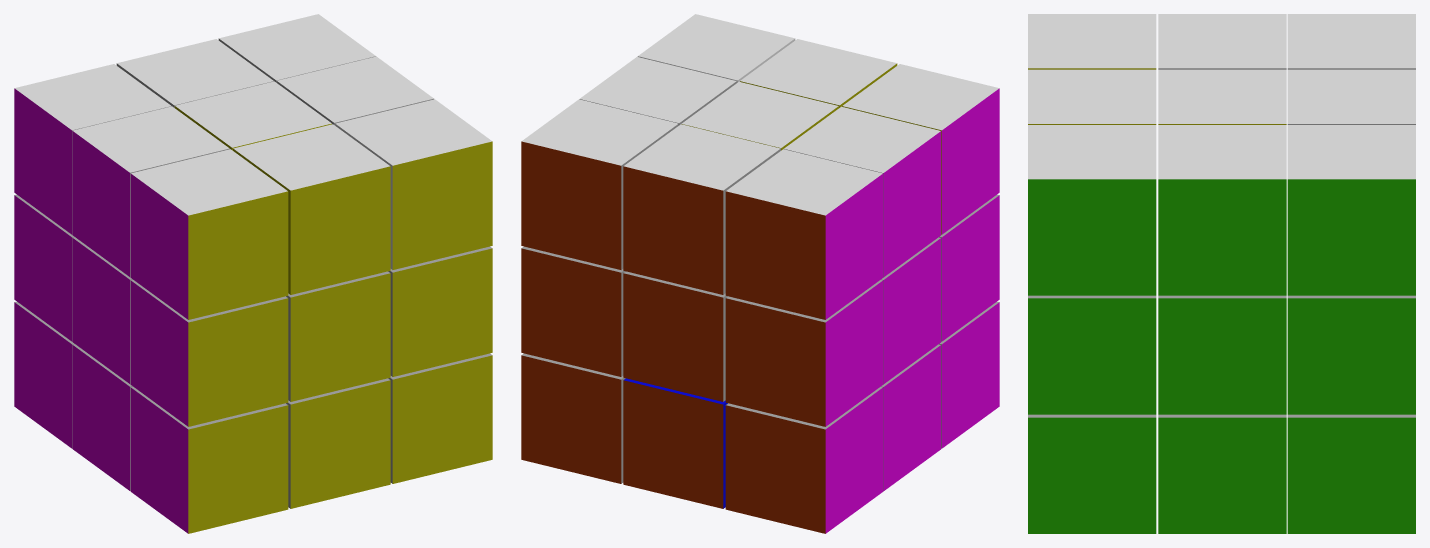
File: Rubik Cube.fbx
The picture shows the model from 3 angles, left to right: view 1: azimuth 30°, elevation 25°; view 2: azimuth 150°, elevation 25°; view 3: azimuth 270°, elevation 25°; orthographic projection. The views are drawn at different scales.
Parts seen in each view (by area): view 1: pCube324, pCube341, pCube332, pCube325, pCube328, pCube323, pCube322, pCube345, pCube340, pCube331, pCube336, pCube347 (+7 smaller); view 2: pCube322, pCube348, pCube339, pCube327, pCube330, pCube324, pCube323, pCube343, pCube346, pCube337, pCube334, pCube341 (+7 smaller); view 3: pCube328, pCube329, pCube330, pCube335, pCube344, pCube334, pCube336, pCube343, pCube345, pCube322, pCube323, pCube324 (+3 smaller).
Boxes of the visible parts, box(x1,y1,x2,y2) form: pCube324: box(130, 149, 288, 319); pCube341: box(130, 386, 288, 533); pCube332: box(130, 280, 288, 426); pCube325: box(233, 124, 390, 294); pCube328: box(335, 99, 492, 269); pCube323: box(72, 106, 229, 276); pCube322: box(14, 64, 171, 234); pCube345: box(388, 353, 492, 483); pCube340: box(286, 378, 390, 508); pCube331: box(286, 271, 390, 401); pCube336: box(388, 246, 492, 376); pCube347: box(72, 344, 132, 490); pCube322: box(725, 149, 883, 319); pCube348: box(725, 386, 883, 533); pCube339: box(725, 280, 883, 426); pCube327: box(623, 124, 780, 294); pCube330: box(521, 99, 678, 269); pCube324: box(842, 64, 999, 234); pCube323: box(784, 106, 941, 277); pCube343: box(521, 353, 625, 483); pCube346: box(623, 378, 727, 508); pCube337: box(623, 271, 727, 401); pCube334: box(521, 246, 625, 376); pCube341: box(939, 301, 999, 448); pCube328: box(1028, 125, 1156, 295); pCube329: box(1158, 125, 1286, 295); pCube330: box(1287, 125, 1415, 295); pCube335: box(1158, 295, 1286, 414); pCube344: box(1158, 414, 1286, 533); pCube334: box(1287, 295, 1415, 414); pCube336: box(1028, 295, 1156, 414); pCube343: box(1287, 414, 1415, 533); pCube345: box(1028, 414, 1156, 533); pCube322: box(1287, 14, 1415, 69); pCube323: box(1158, 14, 1286, 69); pCube324: box(1028, 14, 1156, 69).
Size of the model in its own units: 3.05 by 3.05 by 3.02.
